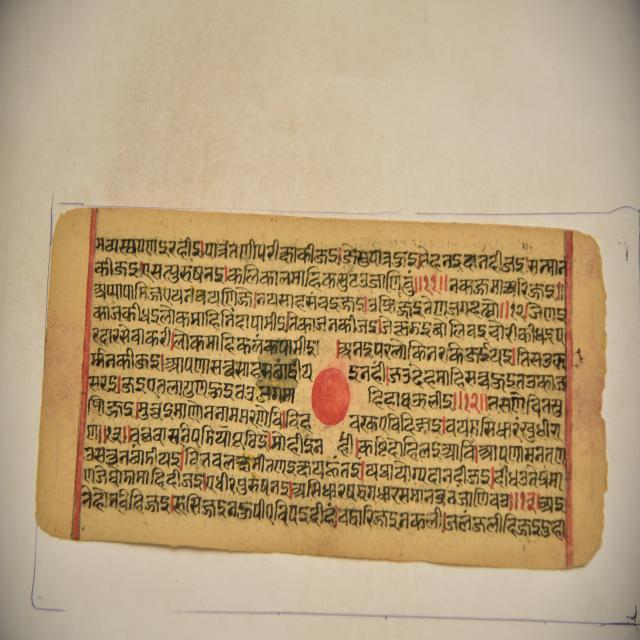text_paragraph: (31, 203, 600, 567)
